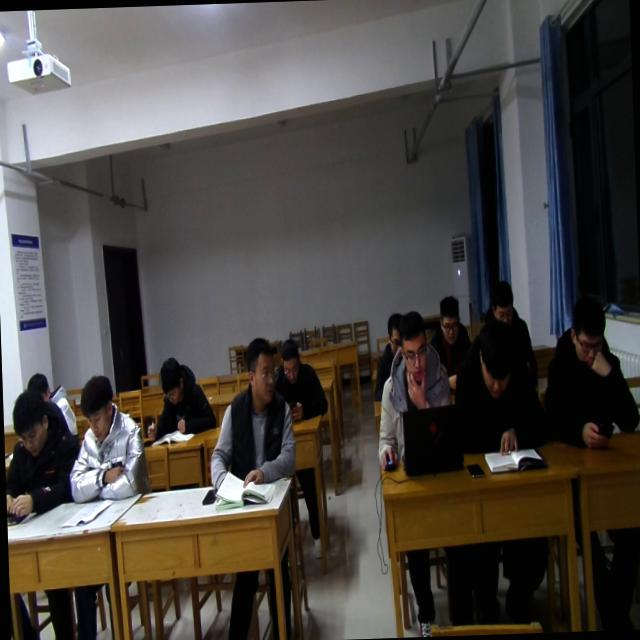down: (472, 316, 514, 400), (568, 294, 606, 366), (10, 388, 49, 456), (78, 372, 114, 444), (400, 308, 432, 382), (436, 290, 462, 349), (486, 275, 516, 326), (157, 355, 184, 411), (277, 338, 303, 386), (22, 370, 52, 399), (384, 309, 404, 352)
sit: (542, 294, 638, 452), (204, 339, 298, 493), (450, 316, 548, 459), (372, 310, 456, 475), (64, 372, 148, 509), (2, 386, 76, 518), (142, 356, 218, 439), (427, 294, 476, 394), (272, 337, 328, 422), (483, 278, 537, 356), (370, 308, 408, 401)
